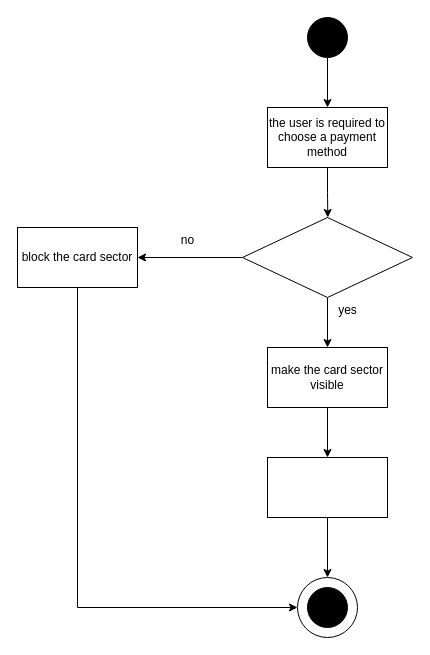
This 430x655 diagram has some shape labels left out. Each missing label, with the box of its shape:
if payment method == card: (242, 216, 412, 298)
user require to select submit or reset button: (266, 456, 388, 518)
